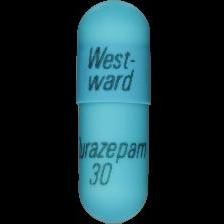63629-3200: (0, 0, 224, 224)
